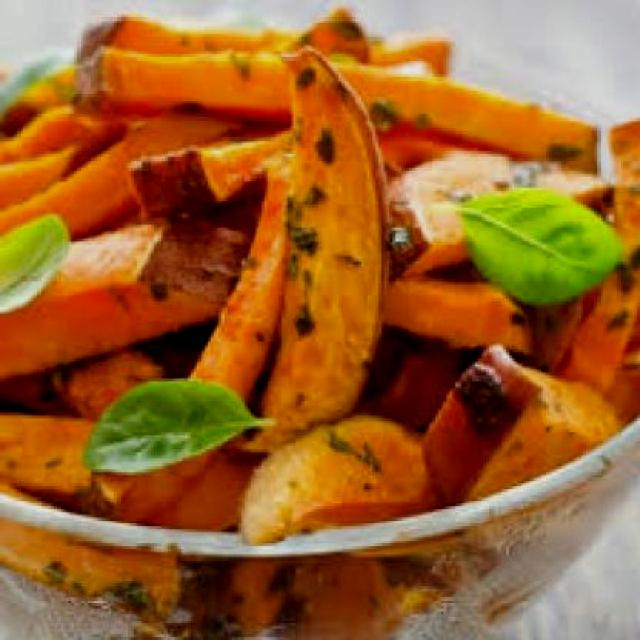fries: (0, 8, 637, 549)
